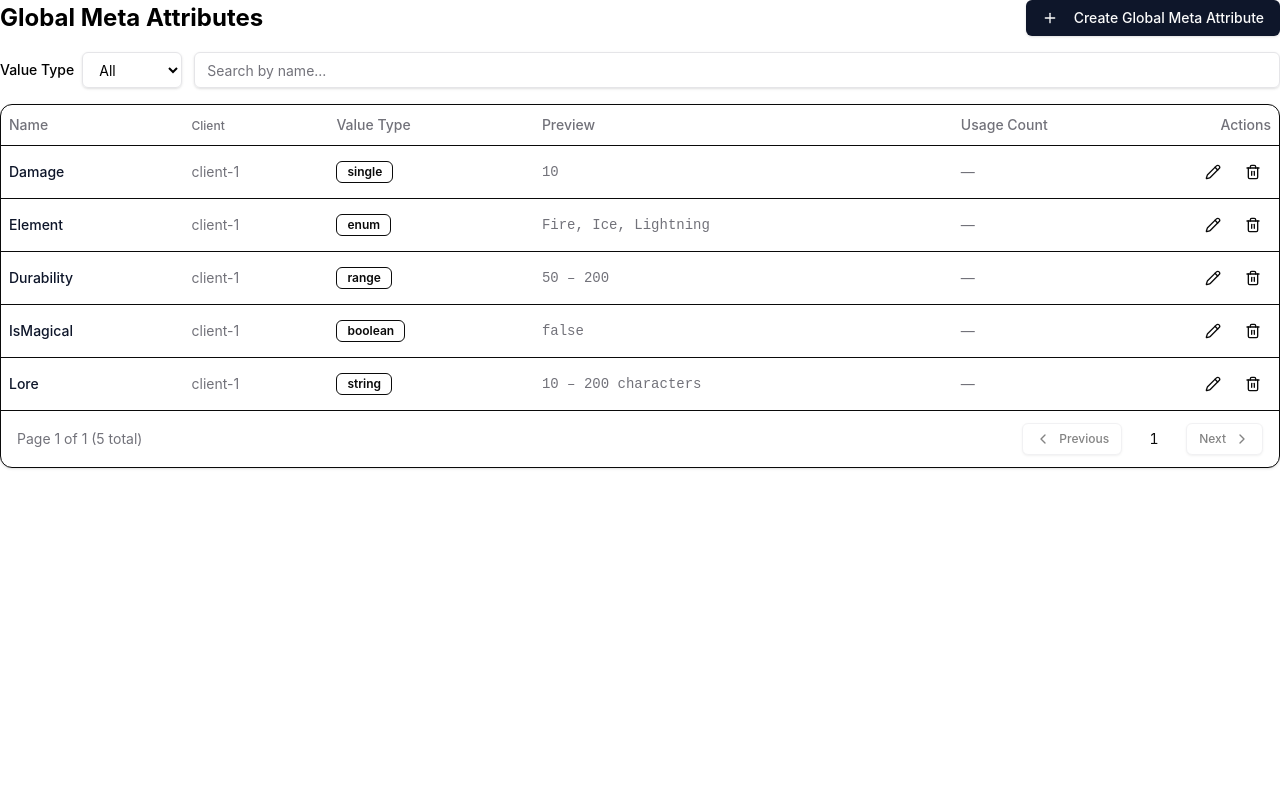
Test: GlobalMetaAttributes list page › edit dialog shows pre-filled comma-separated values for enum type
The width and height of the screenshot is (1280, 800).
What coordinates should you click on to do the following:
click the button named "Edit Element"
I would click on:
 (1213, 224)
Its box is left=1195, top=206, right=1231, bottom=242.
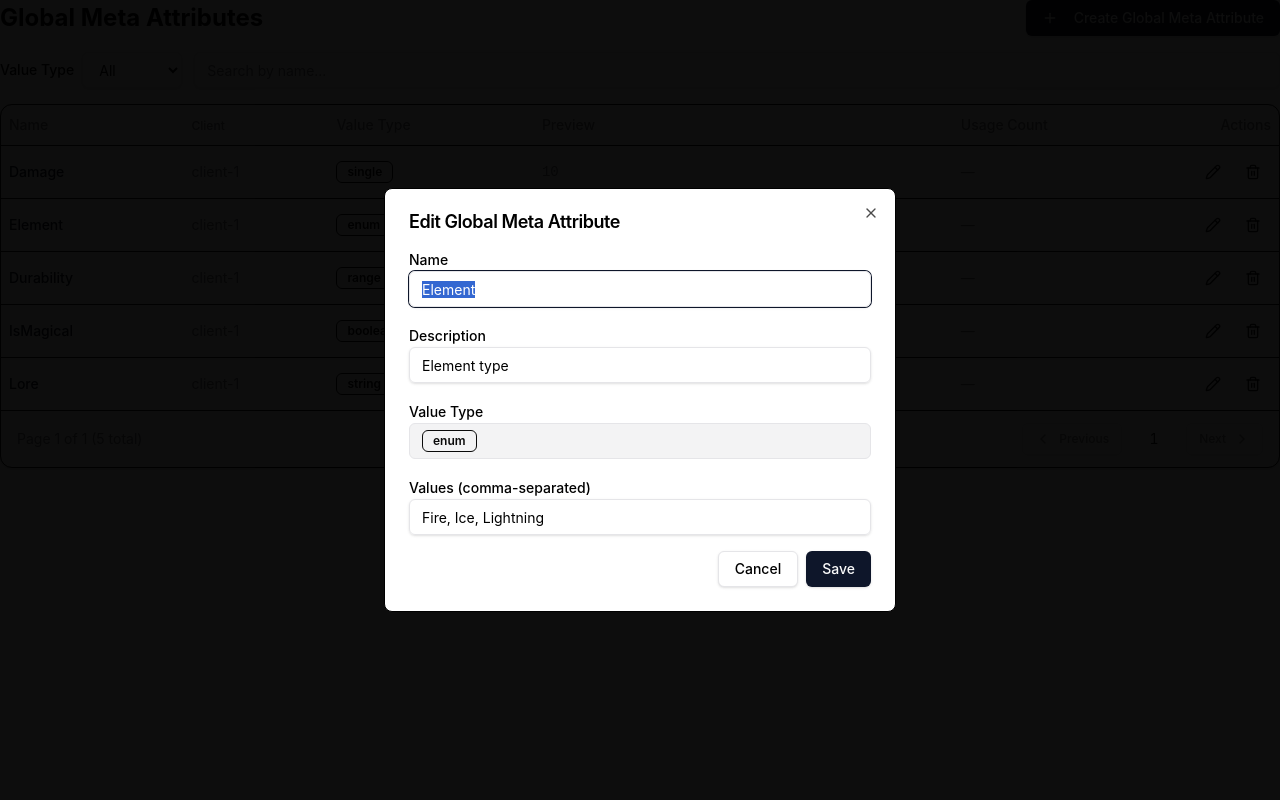
Check: the text "enum" is shown, box left=422, top=430, right=477, bottom=452
Check: the field labelled "Values (comma-separated)" holds "Fire, Ice, Lightning", box left=409, top=499, right=871, bottom=535
